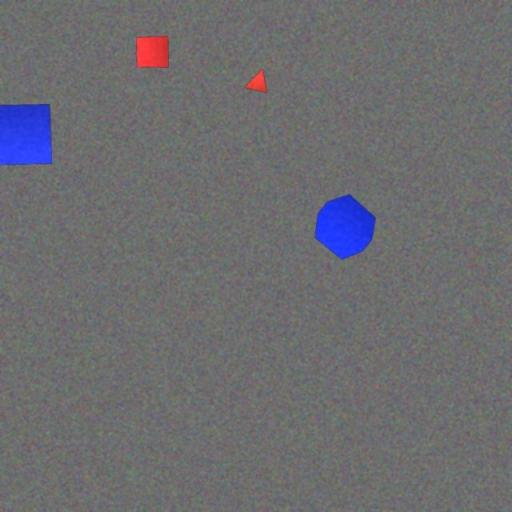BLUE_SQUARE: (0, 104, 53, 166)
RED_SQUARE: (135, 35, 170, 69)
